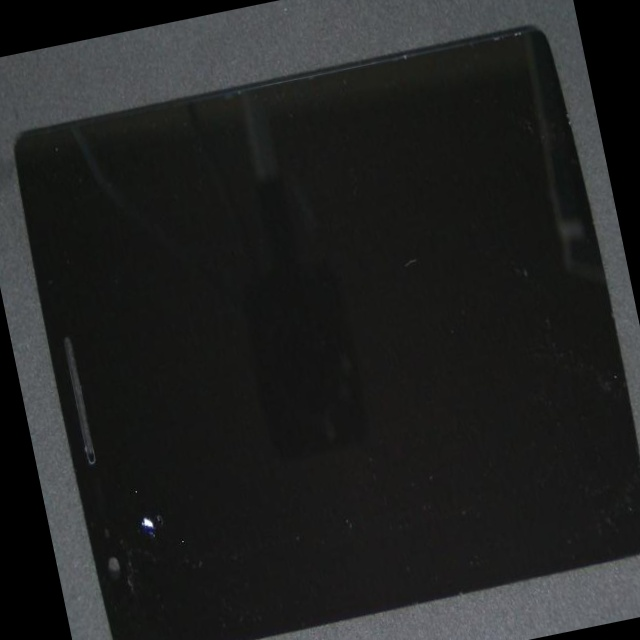stain: (48, 293, 216, 640)
